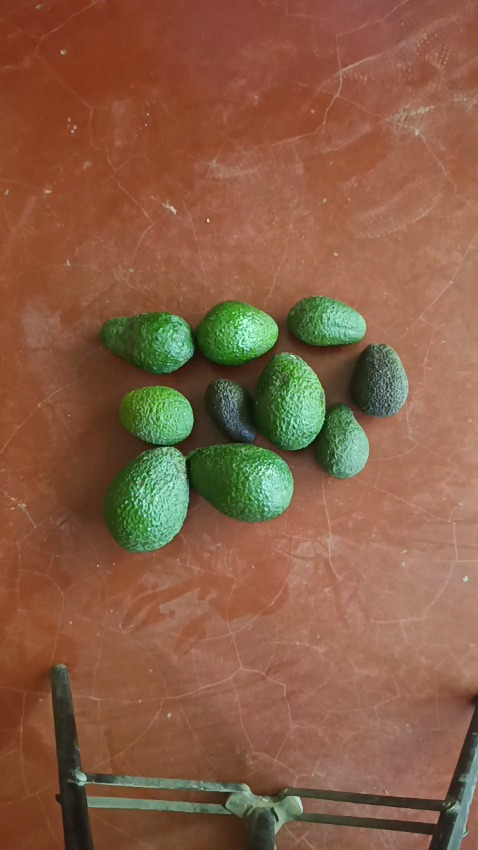Primera: (103, 446, 191, 550), (186, 443, 293, 521)
Segunda: (253, 352, 325, 450), (100, 313, 195, 374)
Tercera: (195, 301, 279, 366), (118, 386, 194, 446), (350, 343, 408, 417), (314, 404, 369, 478), (286, 296, 365, 347), (203, 377, 257, 444)
